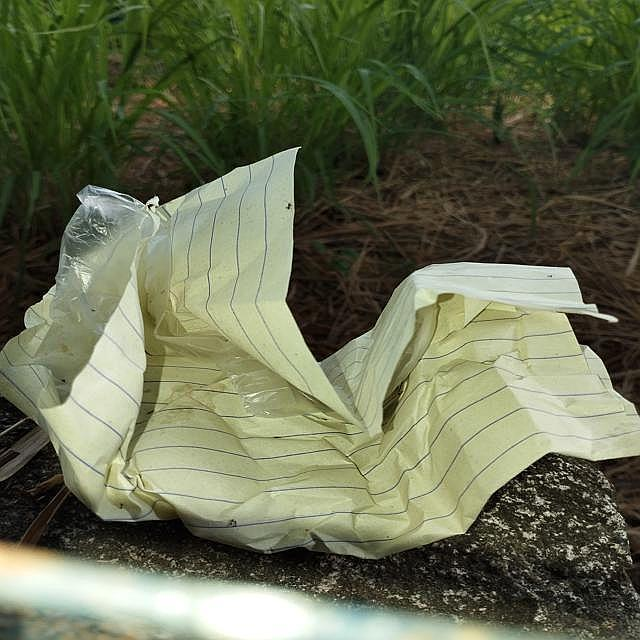Biodegradable: (1, 153, 640, 551)
